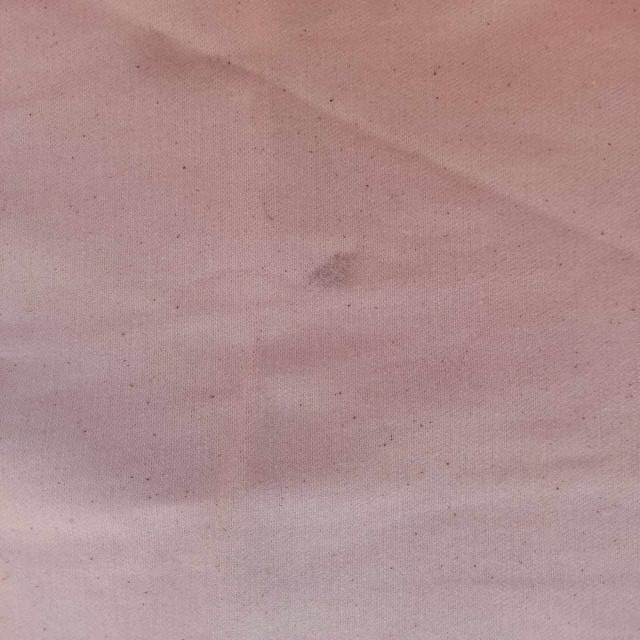taaaches: (311, 236, 378, 296)
